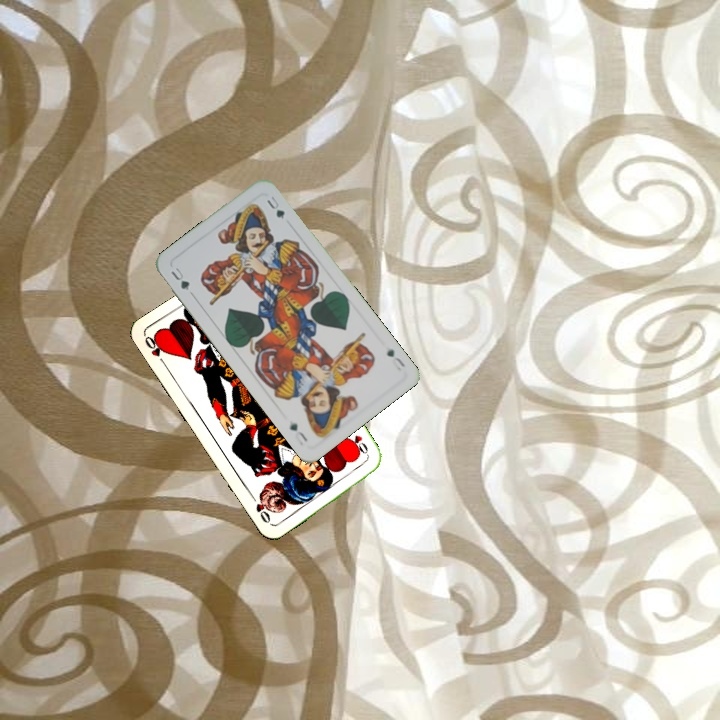GU: (167, 263, 192, 293), (382, 345, 408, 370)
HO: (345, 424, 372, 461), (141, 331, 168, 368)
